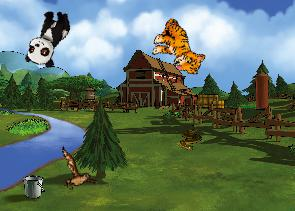eagle: (46, 146, 104, 199)
panda: (22, 4, 74, 71)
tiger: (146, 15, 213, 78)
